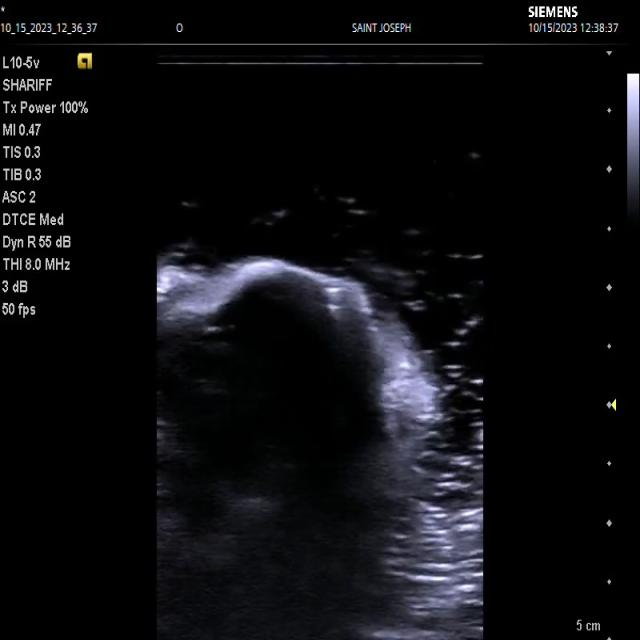tissue: (157, 260, 444, 640)
